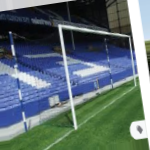goals: (30, 21, 137, 131)
